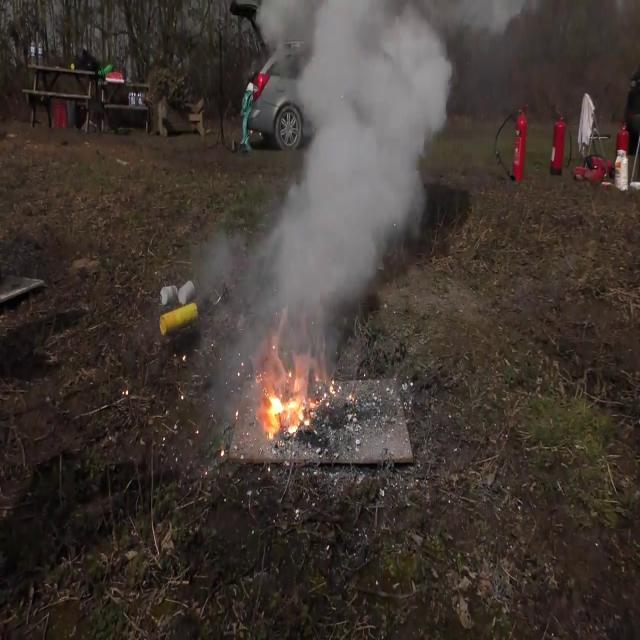Fire: (258, 364, 338, 439), (260, 374, 317, 441)
Smoke: (206, 1, 458, 378)
